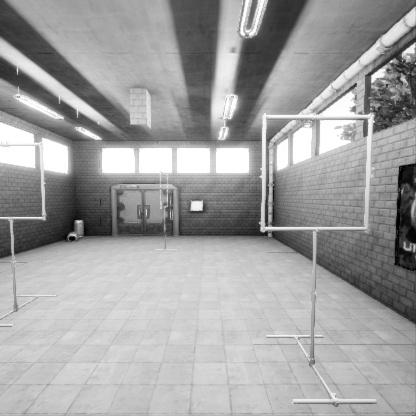gate: (265, 189, 385, 307), (160, 209, 167, 246)
